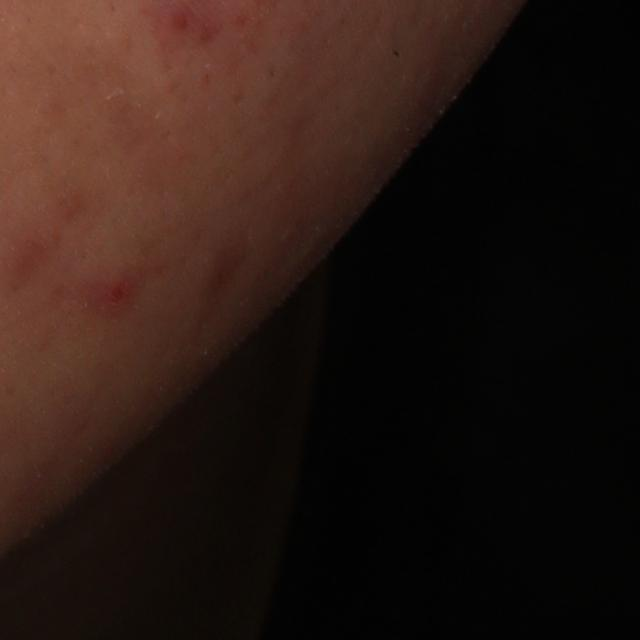papule: (90, 274, 134, 315)
